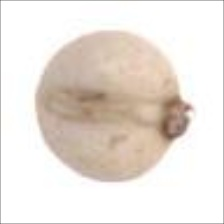L5: (45, 88, 165, 130), (157, 93, 195, 141)
L6: (33, 29, 195, 183)
